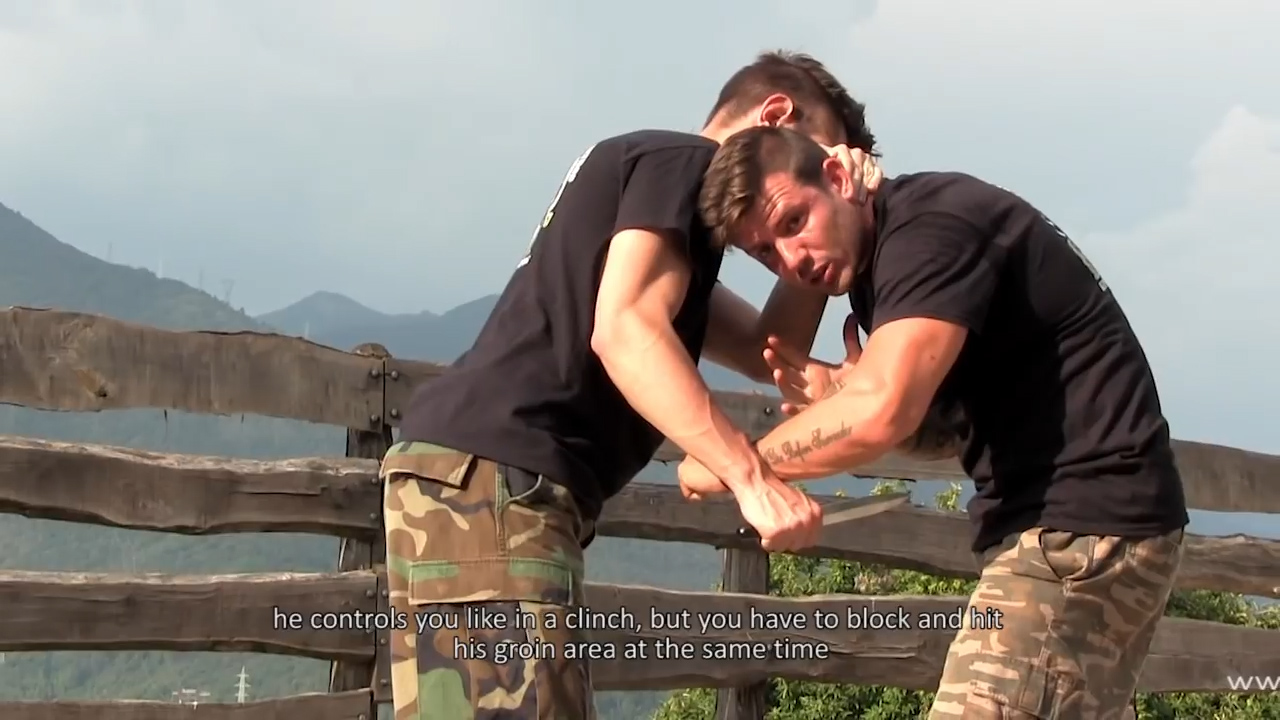knife: (731, 480, 922, 556)
